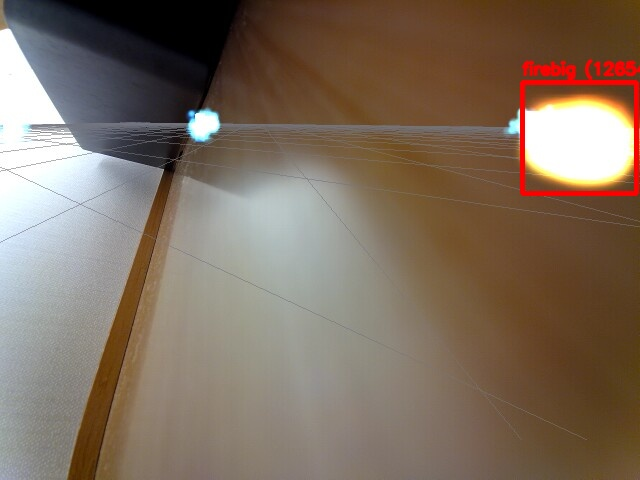firebig: (522, 82, 636, 193)
